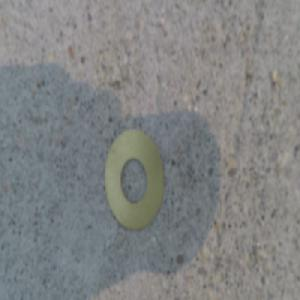Washer: (105, 127, 165, 231)
